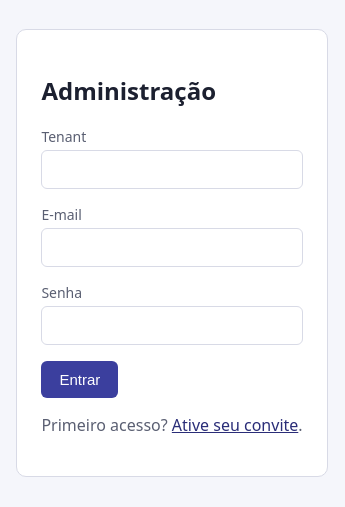
Test case: LoginPage (admin-portal) › em 401, mostra credenciais invalidas
Type "clinic-1" into the field labelled "Tenant" at (172, 169), box [41,150,303,189]
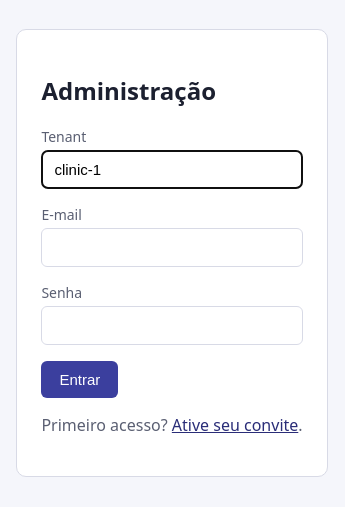
Type "admin@example.com" into the field labelled "E-mail" at (172, 247), box [41,228,303,267]
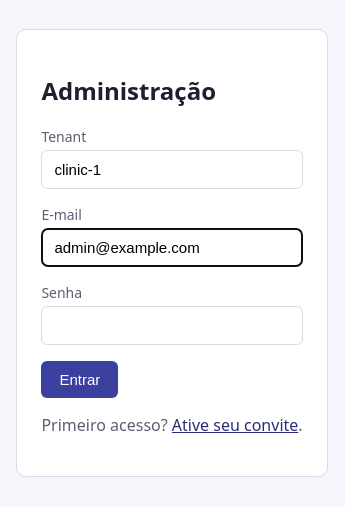
Type "secret" into the password field labelled "Senha" at (172, 325), box [41,306,303,345]
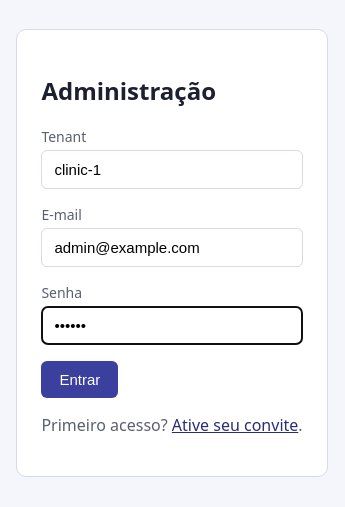
Click the button "Entrar" at (80, 379), box [41,361,118,398]
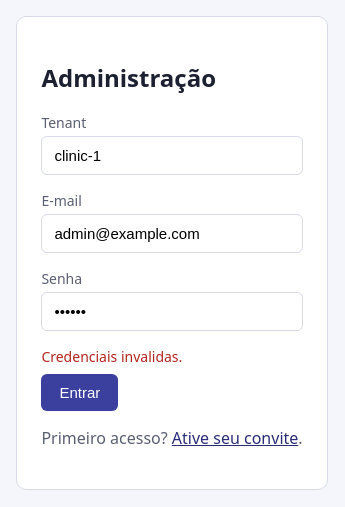
Now the text "Credenciais invalidas." is shown, box [41,347,182,366]
